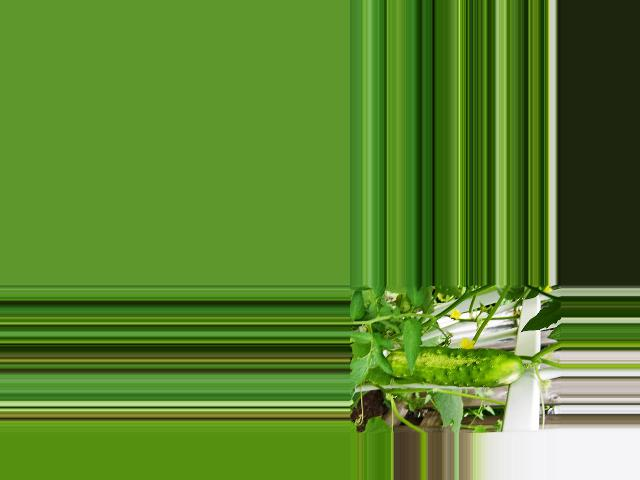cucumber: (387, 348, 524, 387)
